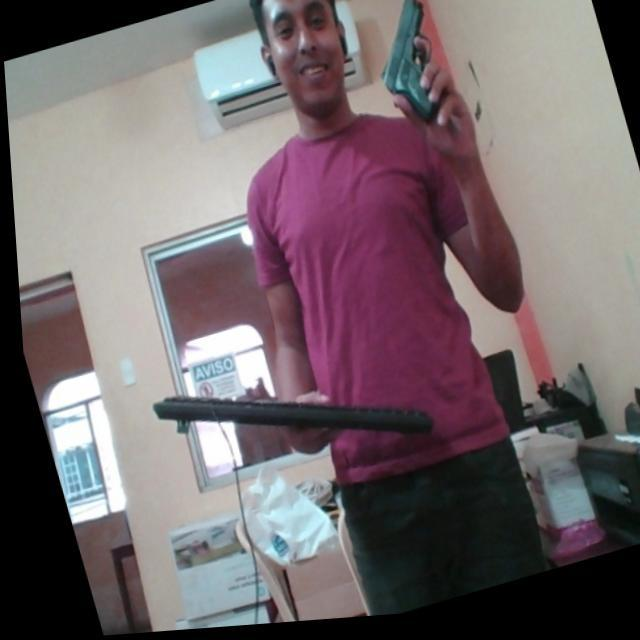weapon: (356, 0, 462, 147)
